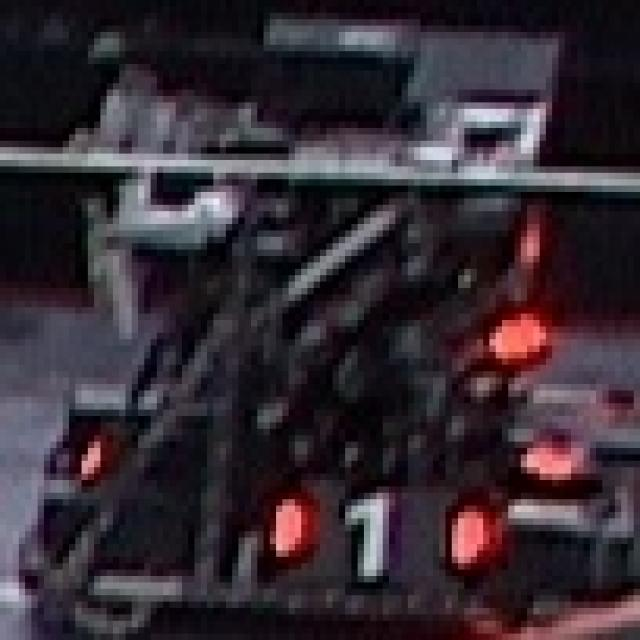R1: (260, 471, 499, 598)
